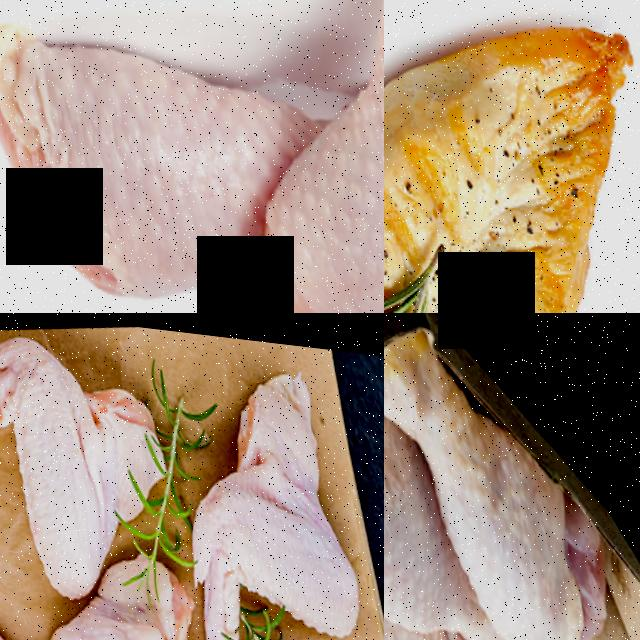chicken thigh: (0, 0, 283, 313), (384, 313, 616, 640), (204, 0, 384, 313), (384, 392, 533, 640)
chicken wing: (153, 341, 369, 640), (0, 313, 181, 599), (38, 569, 232, 640)
